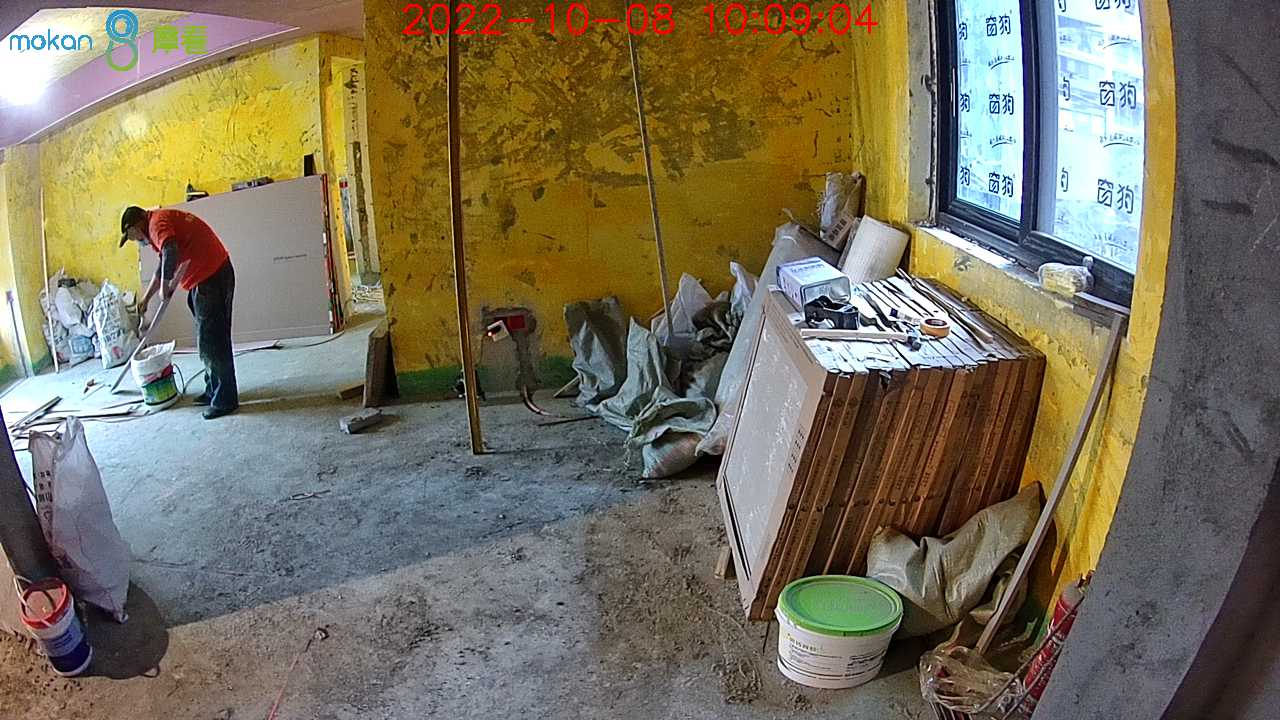people: (120, 204, 239, 415)
window: (903, 1, 1142, 310)
